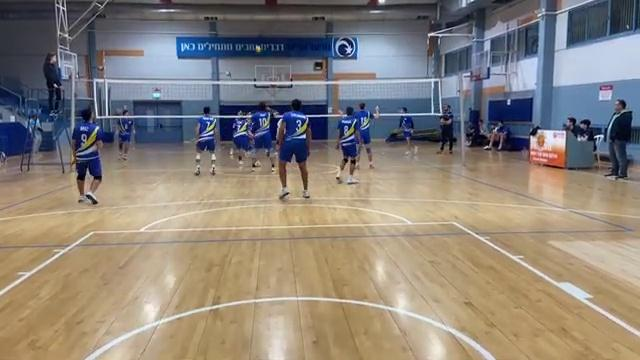ball: (251, 41, 264, 56)
